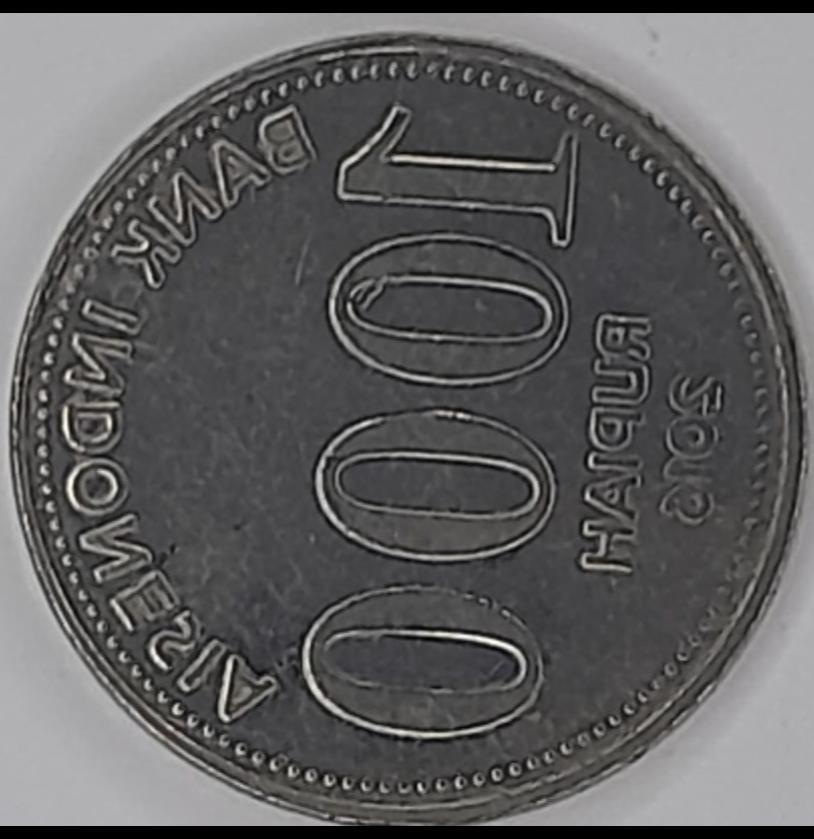coin_1000_e2016: (14, 17, 803, 839)
